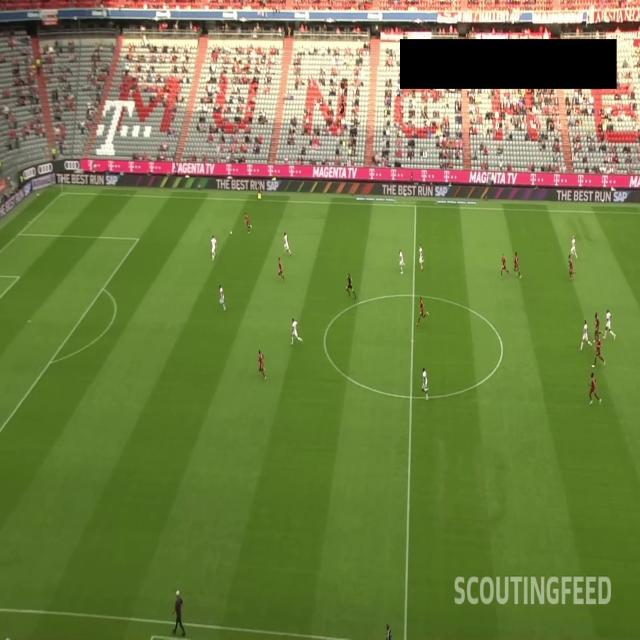ball: (228, 226, 234, 238)
player: (592, 330, 607, 370), (587, 371, 603, 407), (578, 316, 593, 352), (602, 306, 616, 344), (415, 294, 430, 326), (290, 316, 304, 348), (421, 365, 432, 402), (499, 251, 512, 280), (257, 348, 268, 382), (593, 311, 604, 345), (512, 249, 523, 280), (568, 251, 577, 283), (277, 256, 287, 284), (397, 246, 406, 277), (218, 282, 227, 312), (243, 211, 254, 235), (210, 236, 220, 262), (282, 231, 292, 257), (417, 241, 425, 271), (570, 234, 579, 260)
referee: (345, 271, 358, 301), (255, 180, 264, 202)
